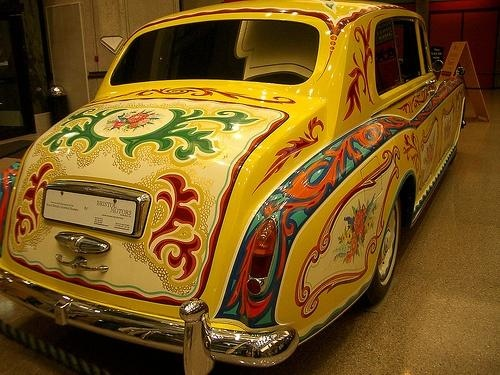car: (1, 2, 468, 375)
